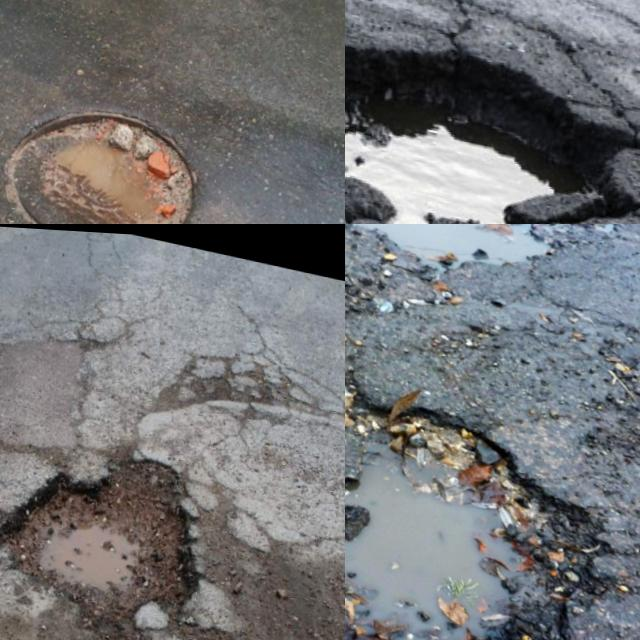Potholes: (345, 324, 640, 640), (345, 0, 640, 224), (0, 408, 270, 640), (0, 70, 229, 224), (345, 224, 640, 343)
